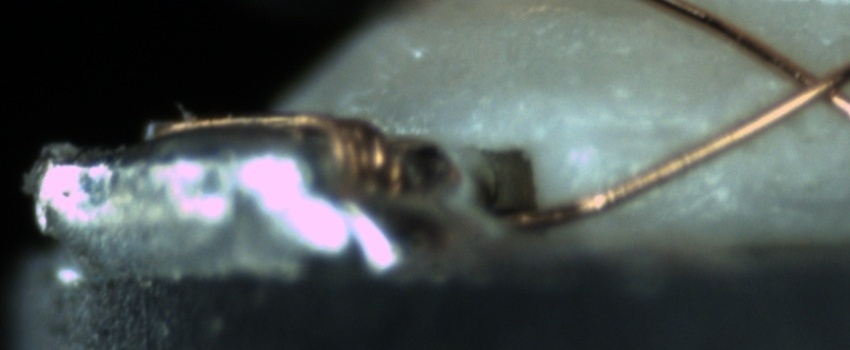CL: (767, 44, 850, 122)
DL: (580, 107, 725, 171)
TE: (153, 109, 395, 197)
